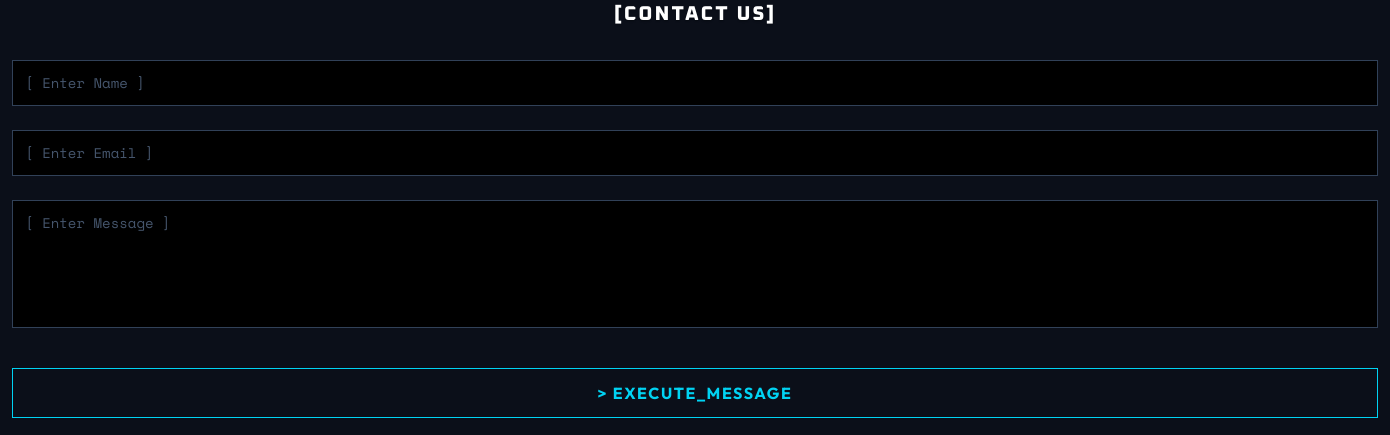
Test: ContactForm › shows submitting state during submission
Type "John Doe" into the field with placeholder "[ Enter Name ]" at (695, 83), box x1=12 y1=60 x2=1378 y2=106
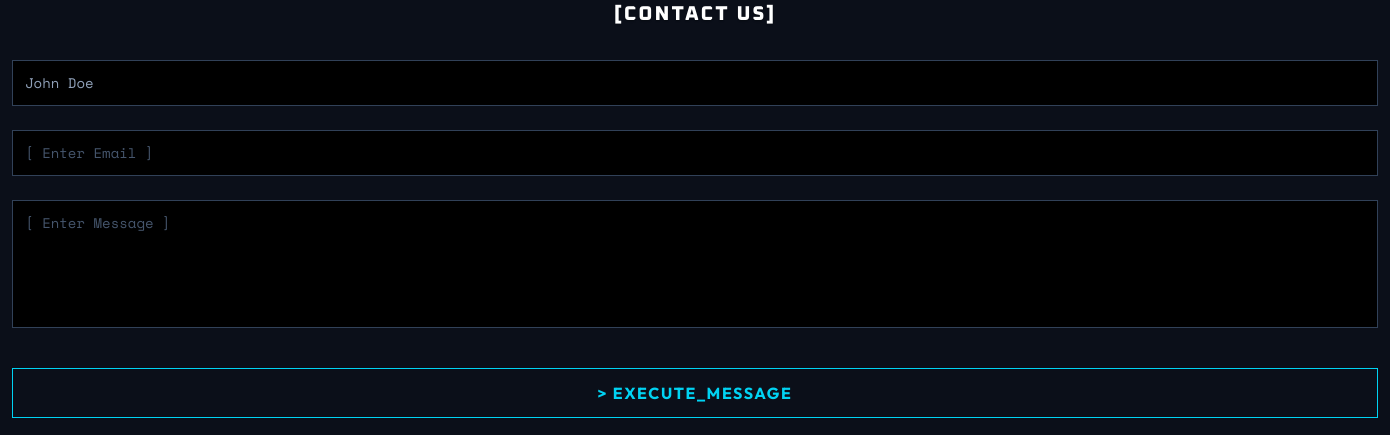
Type "john@example.com" into the field with placeholder "[ Enter Email ]" at (695, 153), box x1=12 y1=130 x2=1378 y2=176
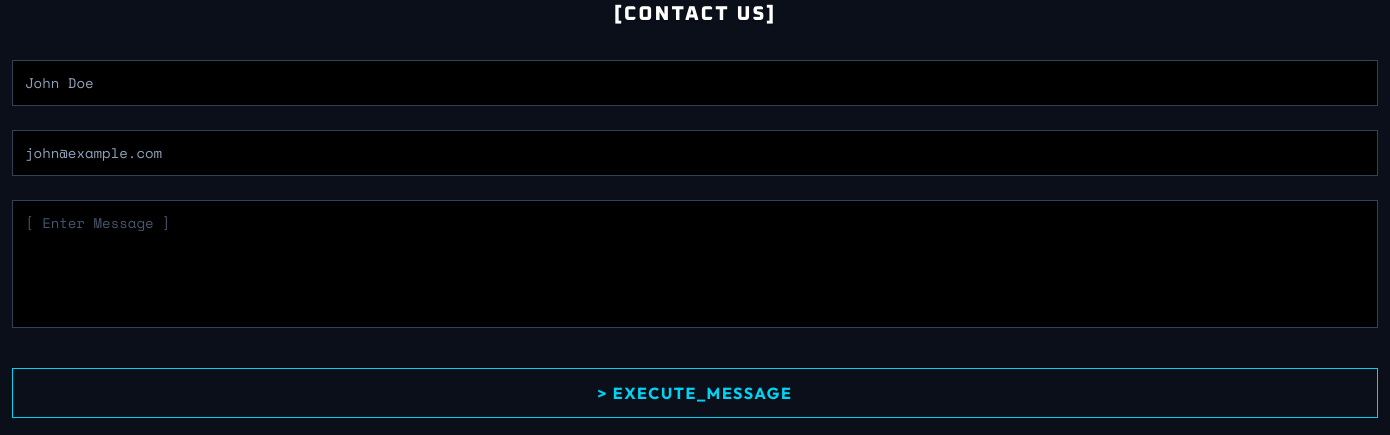
Type "Hello world" into the text box with placeholder "[ Enter Message ]" at (695, 264), box x1=12 y1=200 x2=1378 y2=328
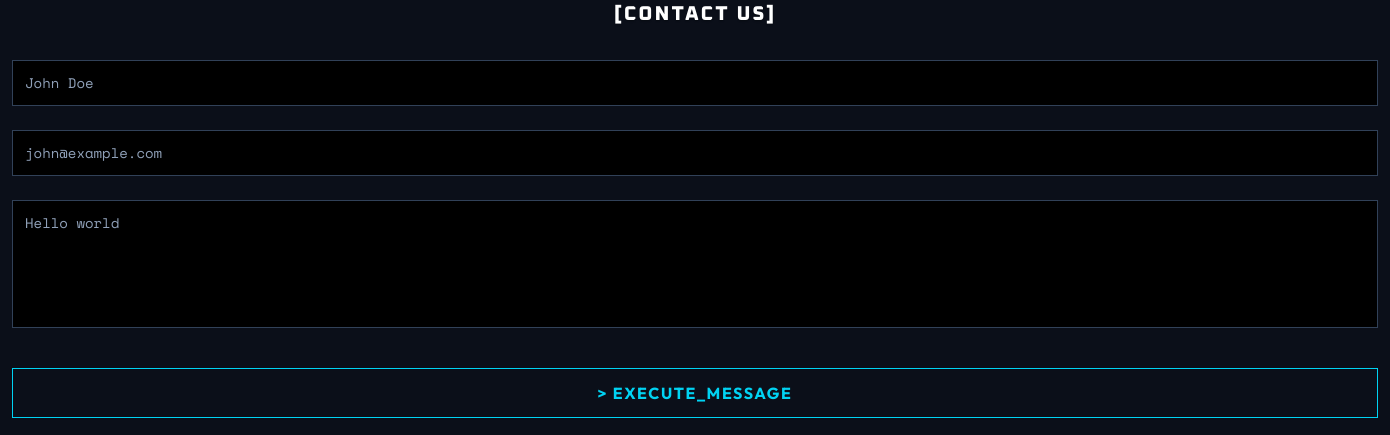
Click the button "> EXECUTE_MESSAGE" at (695, 393), box x1=12 y1=368 x2=1378 y2=418
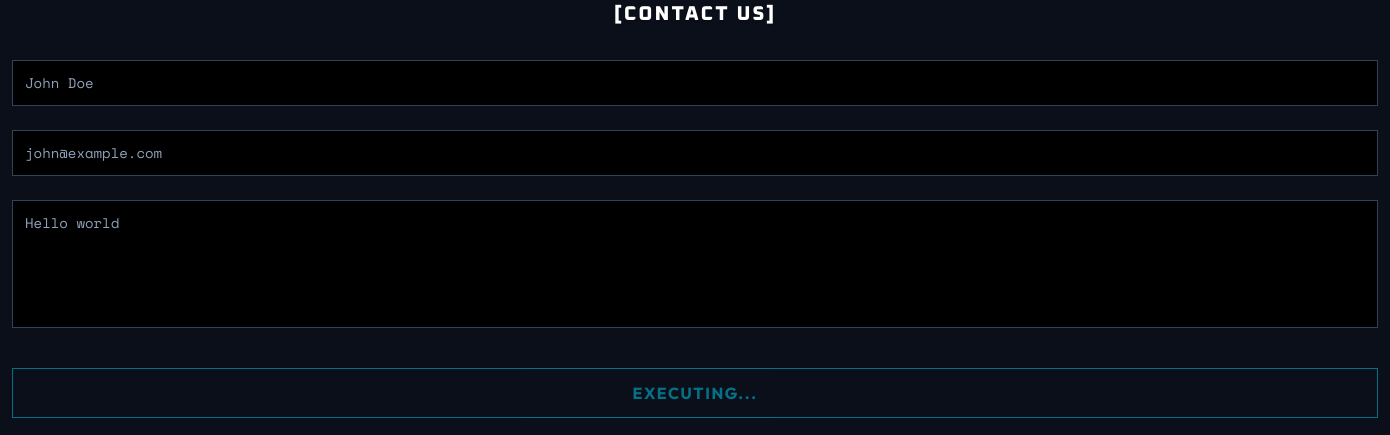
Expected: the button "EXECUTING..." is shown, x1=12 y1=368 x2=1378 y2=418
